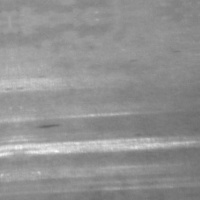scratches: (19, 127, 199, 161)
